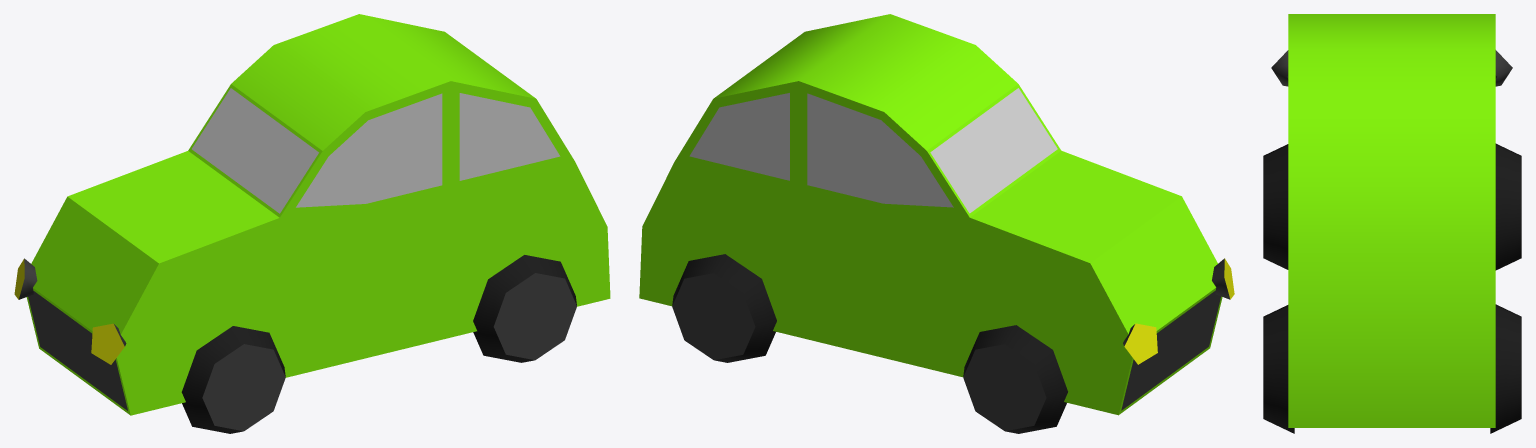
Rendered from Wooden_Car_D.FBX.
The picture shows the model from 3 angles, left to right: view 1: azimuth 30°, elevation 25°; view 2: azimuth 150°, elevation 25°; view 3: azimuth 270°, elevation 25°; orthographic projection. The views are drawn at different scales.
Parts seen in each view (by area): view 1: Wooden_Car; view 2: Wooden_Car; view 3: Wooden_Car.
Boxes of the visible parts, left/top/right/bottom form: Wooden_Car: left=14, top=14, right=610, bottom=433; Wooden_Car: left=639, top=14, right=1234, bottom=433; Wooden_Car: left=1263, top=14, right=1521, bottom=433.
Bounding box in the file's own units: 112 × 63.34 × 43.43.
